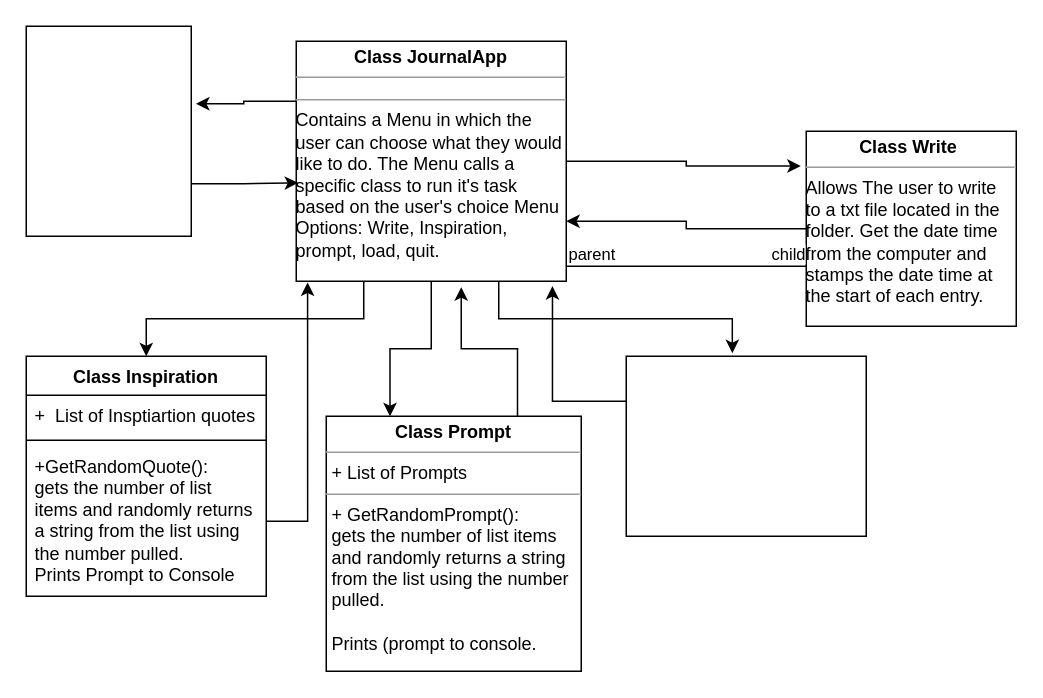
Image size: 1043x698. Some labels were removed from this diagram. The centre of each missing label's shape, as x and y in pixels:
Class Load + Grabs the txt file and displays the txt file.: (x=745, y=445)
Progam.cs Simply call the journal app class and run the program JournalApp(): (x=108, y=130)
